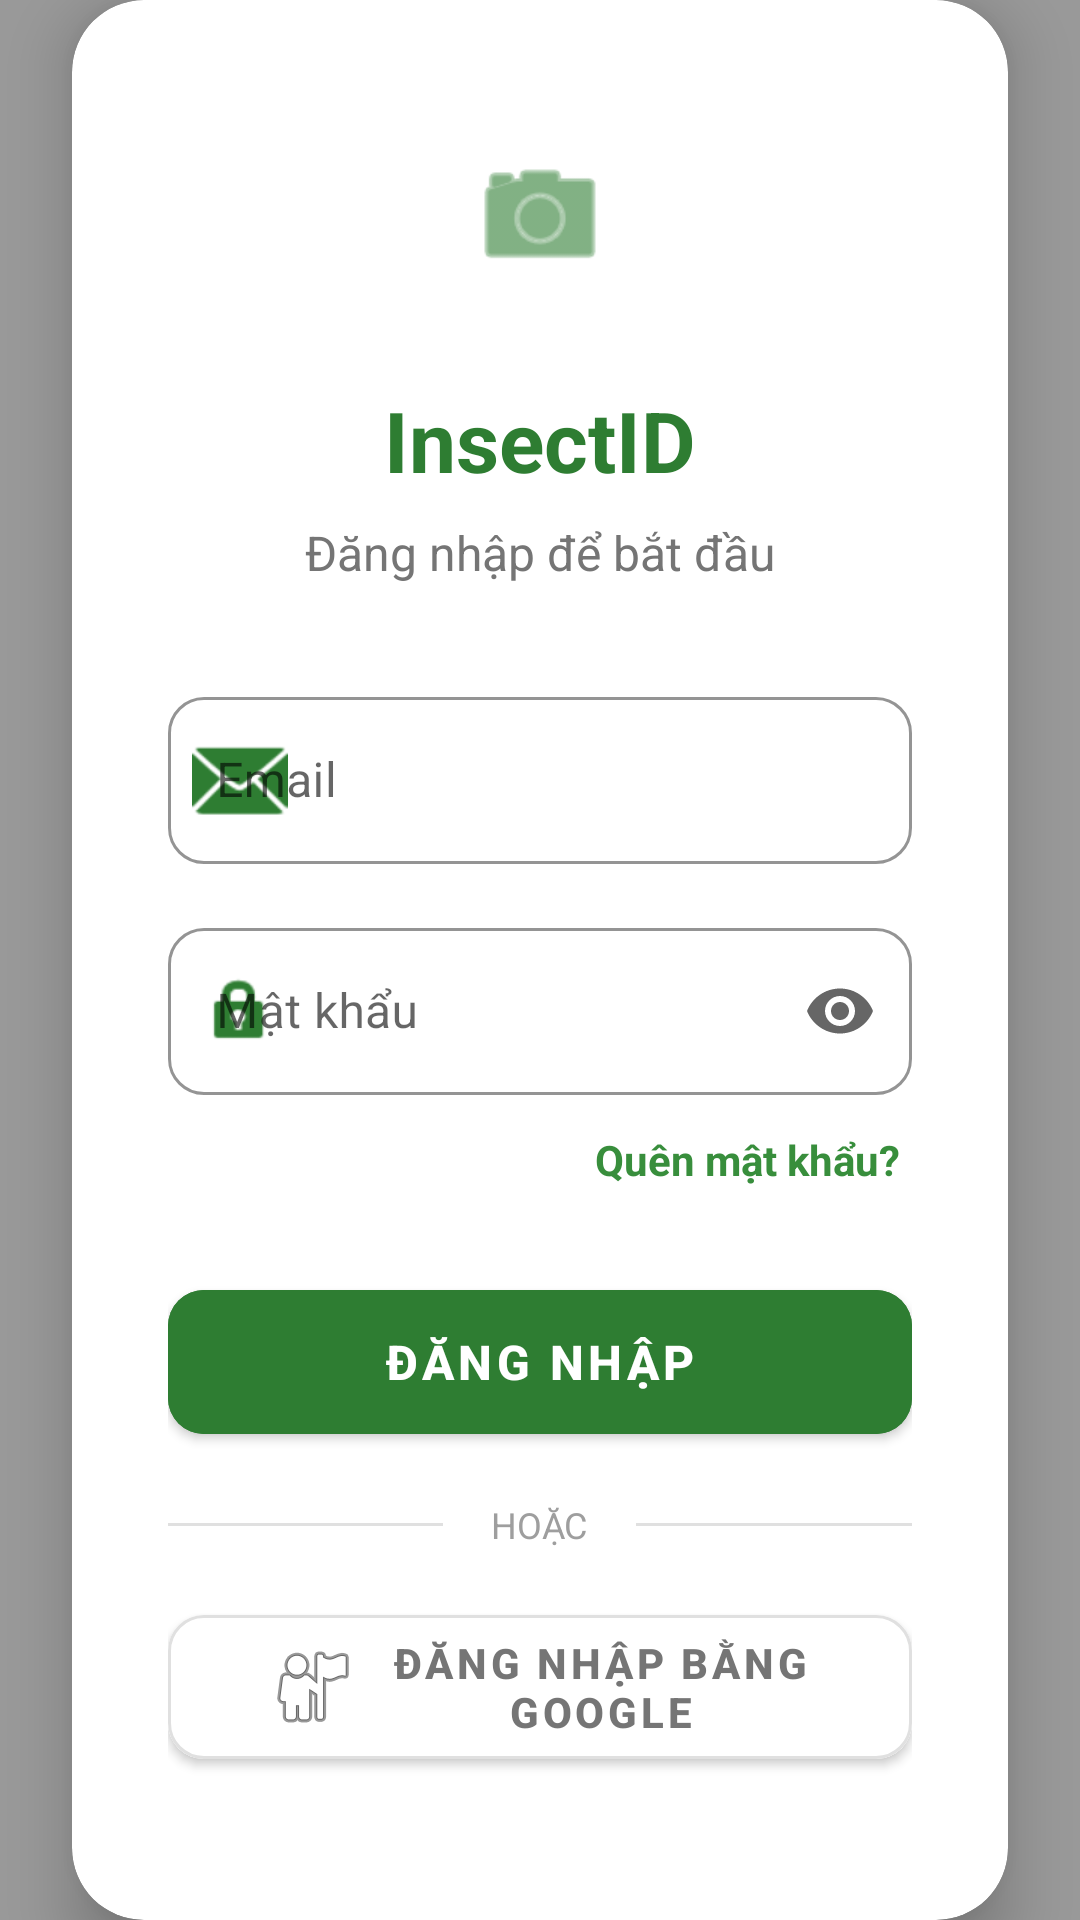

Screen size 1080 x 1920. Icon name, then its center in pixels as (x,y):
camera: (540,213)
